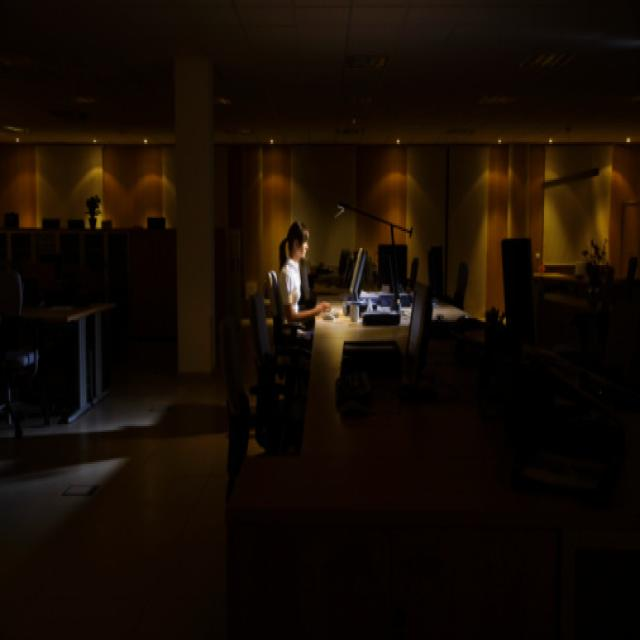People: (266, 206, 323, 371)
Table: (303, 254, 640, 640), (11, 272, 123, 446)
chair: (489, 221, 552, 346)
